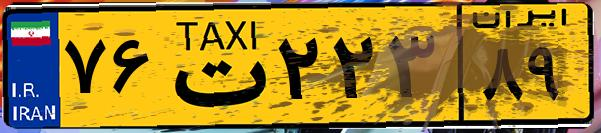2: (270, 28, 330, 110), (330, 28, 385, 110)
3: (385, 28, 445, 110)
6: (110, 28, 158, 98)
7: (57, 26, 110, 100)
8: (475, 38, 525, 113)
9: (525, 38, 570, 115)
ت: (158, 12, 270, 120)
